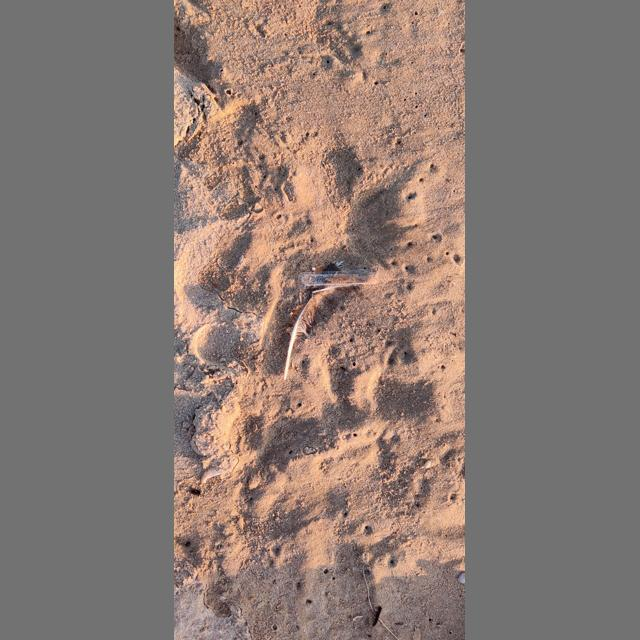litter: (299, 269, 379, 289)
